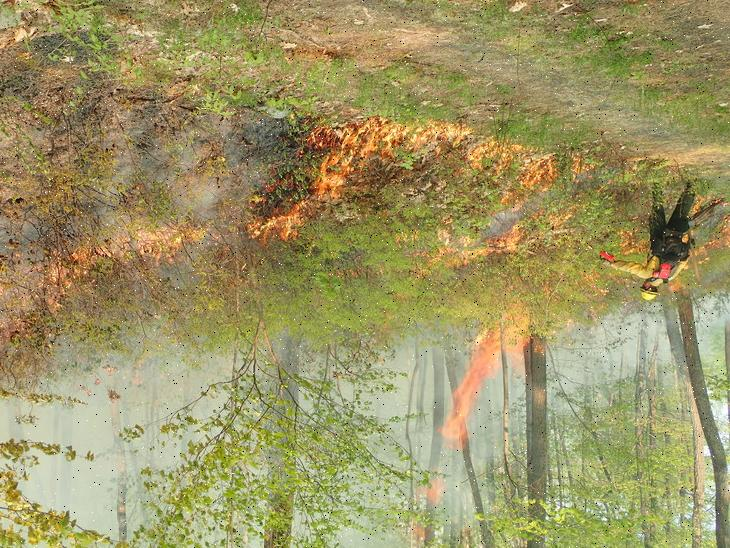fire: (255, 83, 557, 304), (0, 185, 200, 380)
